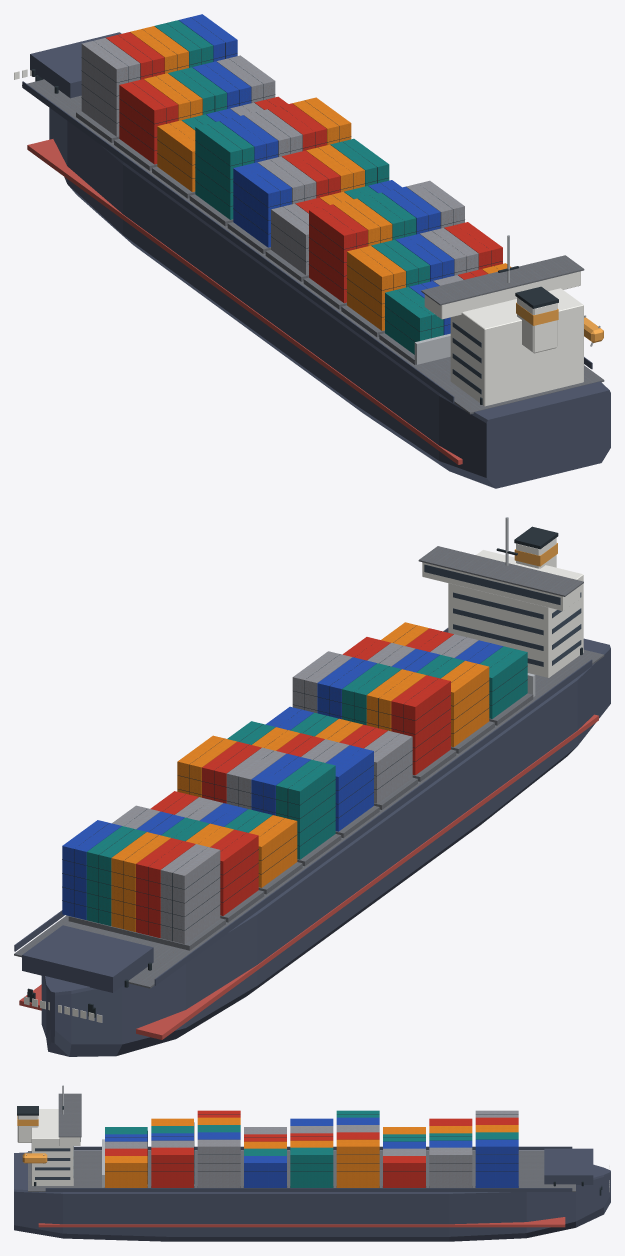
File: ship.glb
The picture shows the model from 3 angles, top to bottom: view 1: azimuth 30°, elevation 25°; view 2: azimuth 150°, elevation 25°; view 3: azimuth 270°, elevation 25°; orthographic projection. The views are drawn at different scales.
Visible parts, largest first — view 1: harbor_ship; view 2: harbor_ship; view 3: harbor_ship.
Boxes of the visible parts, x1=… form: harbor_ship: x1=14, y1=14, x2=610, y2=488; harbor_ship: x1=14, y1=517, x2=610, y2=1056; harbor_ship: x1=14, y1=1085, x2=610, y2=1241.
Size of the model in its own units: 29 by 43.5 by 170.
13 materials, 6 textured.
